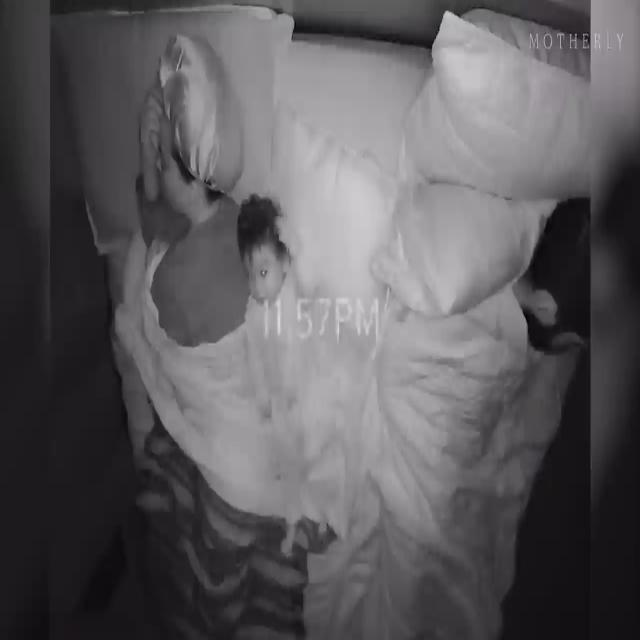baby: (235, 190, 325, 461)
